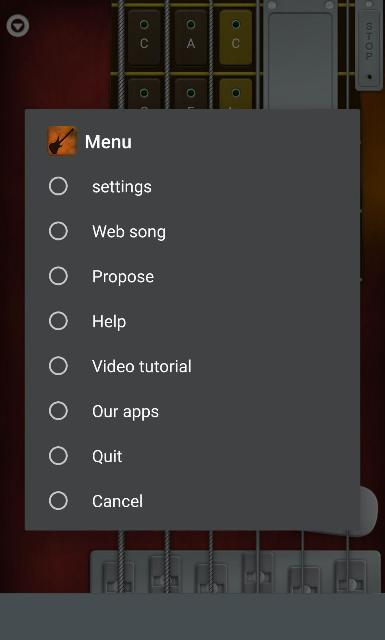CheckedTextView: (49, 356, 191, 376), (48, 221, 166, 241), (48, 401, 158, 421), (48, 266, 154, 286), (48, 176, 152, 196), (48, 492, 142, 511), (48, 312, 126, 331), (48, 446, 122, 466)
Image: (47, 126, 77, 156)
List: (46, 172, 280, 514)
Modal: (24, 110, 360, 530)
Text: (92, 359, 190, 373), (92, 223, 166, 240), (92, 405, 158, 421), (92, 270, 154, 286), (92, 180, 152, 196), (92, 493, 142, 507), (85, 134, 131, 148), (93, 314, 126, 331), (92, 450, 122, 464)
